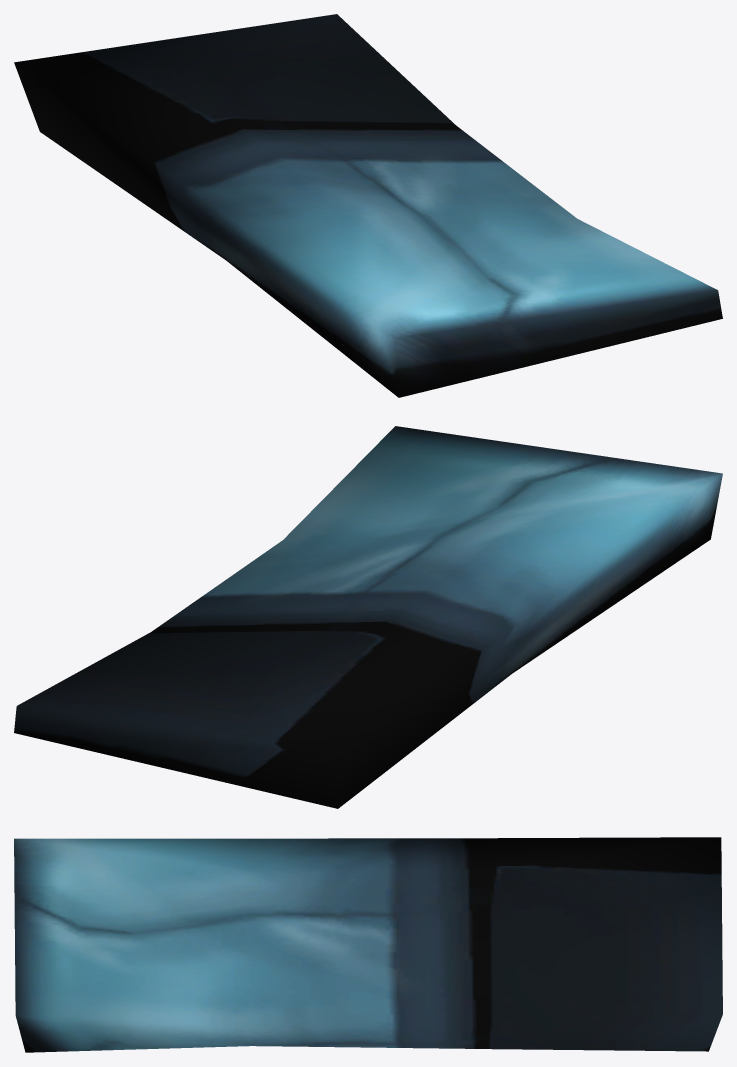
File: cushion1.glb
3 views of the same model, one above another, from view 1: azimuth 30°, elevation 25°; view 2: azimuth 150°, elevation 25°; view 3: azimuth 270°, elevation 25° (orthographic). The views are drawn at different scales.
Visible parts, largest first — view 1: Box10; view 2: Box10; view 3: Box10.
Part boxes in pixels (box(x1,y1,x2,y2)): Box10: box(14, 14, 722, 397); Box10: box(14, 426, 722, 808); Box10: box(14, 837, 722, 1052).
Bounding box in the file's own units: 24.06 × 5.13 × 46.92.
1 material, 1 textured.
